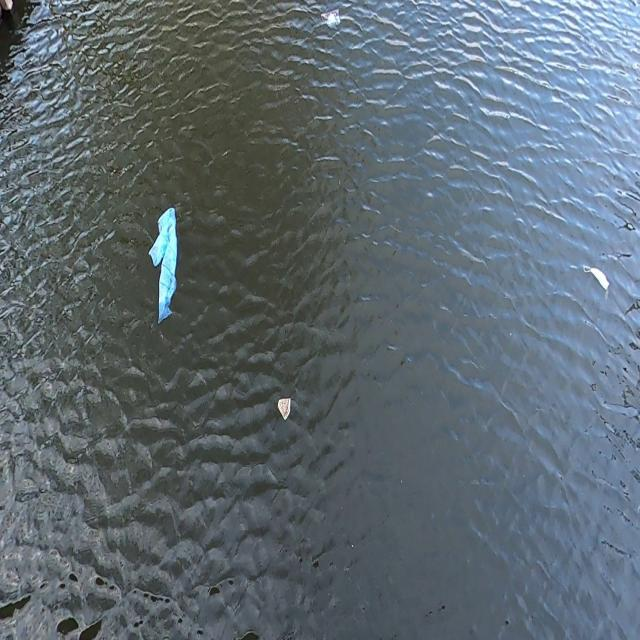Non plastique: (582, 261, 614, 306), (275, 393, 296, 425)
Sac plastique: (146, 201, 182, 331), (318, 2, 346, 35)
